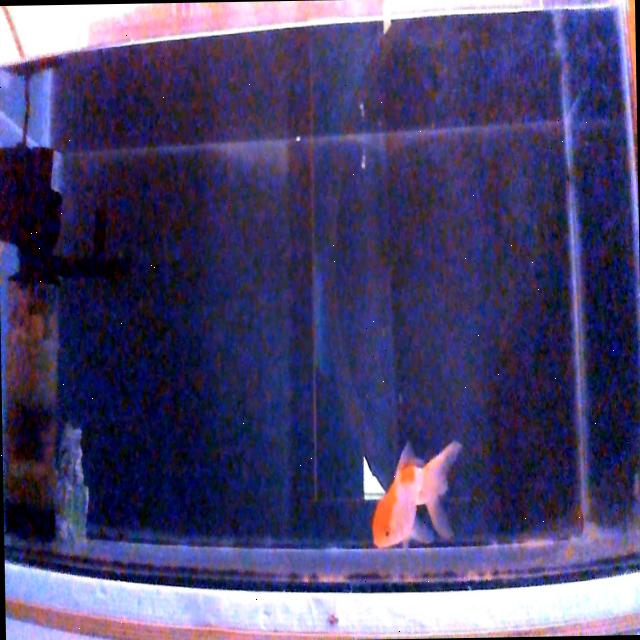fish: (368, 436, 463, 550)
